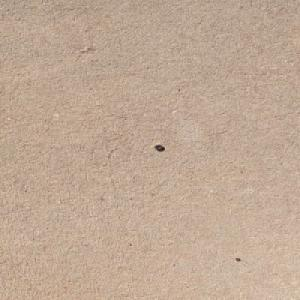Nut: (153, 143, 163, 149)
